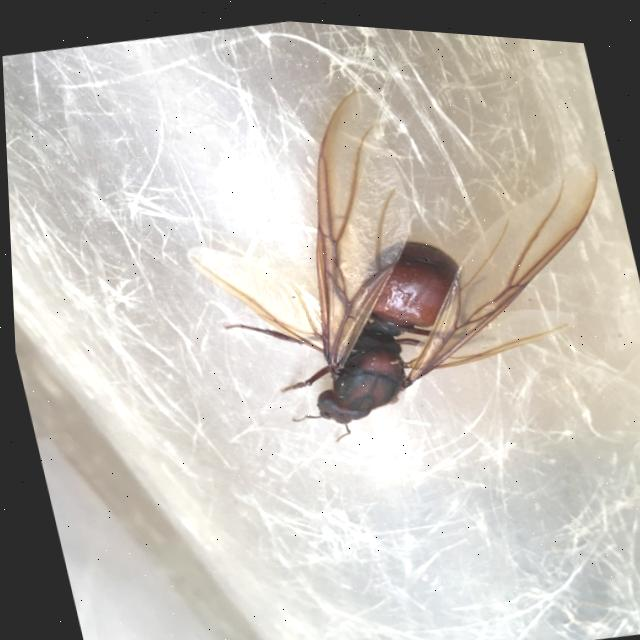Alive-Female-Alate: (149, 31, 640, 478)
